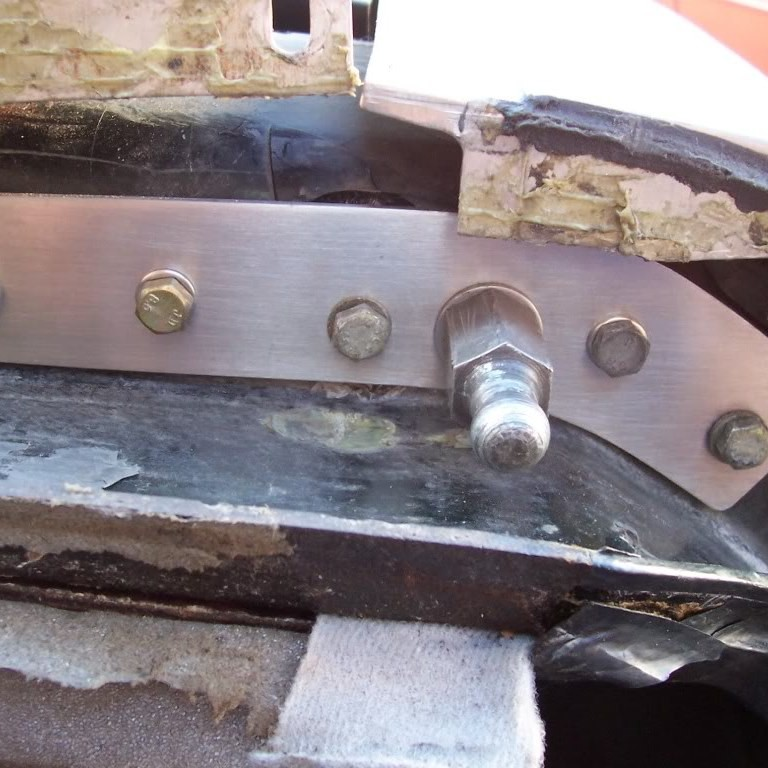bolt_a: (327, 297, 394, 365), (133, 276, 196, 337), (589, 318, 650, 380), (711, 407, 763, 473)
